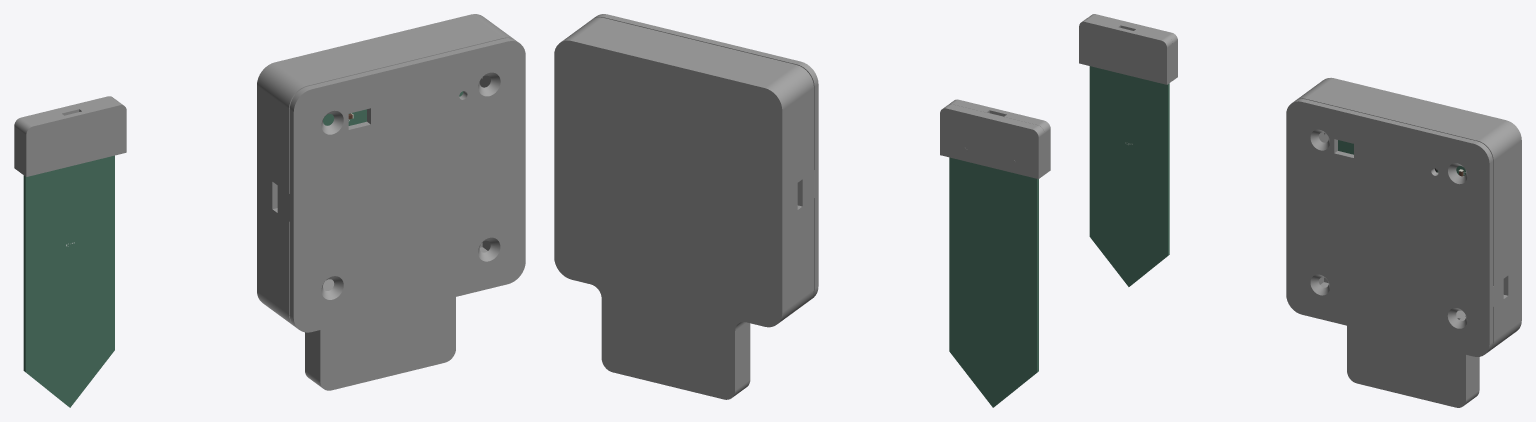
File: PCB.fbx
3 views of the same model, side by side, from view 1: azimuth 30°, elevation 25°; view 2: azimuth 150°, elevation 25°; view 3: azimuth 330°, elevation 25° (orthographic). The views are drawn at different scales.
Parts seen in each view (by area): view 1: PCB top cover, PCB bottom cover, Body1, Probe top, Probe bottom; view 2: PCB bottom cover, Body1, Probe bottom, PCB top cover, Probe top; view 3: PCB top cover, PCB bottom cover, Body1, Probe top, Probe bottom.
Part boxes in pixels (<box>): PCB top cover: <box>277,38,525,332</box>; PCB bottom cover: <box>257,14,514,390</box>; Body1: <box>23,155,114,407</box>; Probe top: <box>20,100,126,176</box>; Probe bottom: <box>14,96,116,171</box>; PCB bottom cover: <box>554,17,813,399</box>; Body1: <box>949,157,1038,407</box>; Probe bottom: <box>940,104,1044,178</box>; PCB top cover: <box>593,14,818,299</box>; Probe top: <box>949,99,1050,174</box>; PCB top cover: <box>1286,99,1503,356</box>; PCB bottom cover: <box>1295,77,1521,407</box>; Body1: <box>1089,66,1169,286</box>; Probe top: <box>1079,17,1172,84</box>; Probe bottom: <box>1088,14,1177,80</box>.
Size of the model in its own units: 217 by 147 by 28.61.
